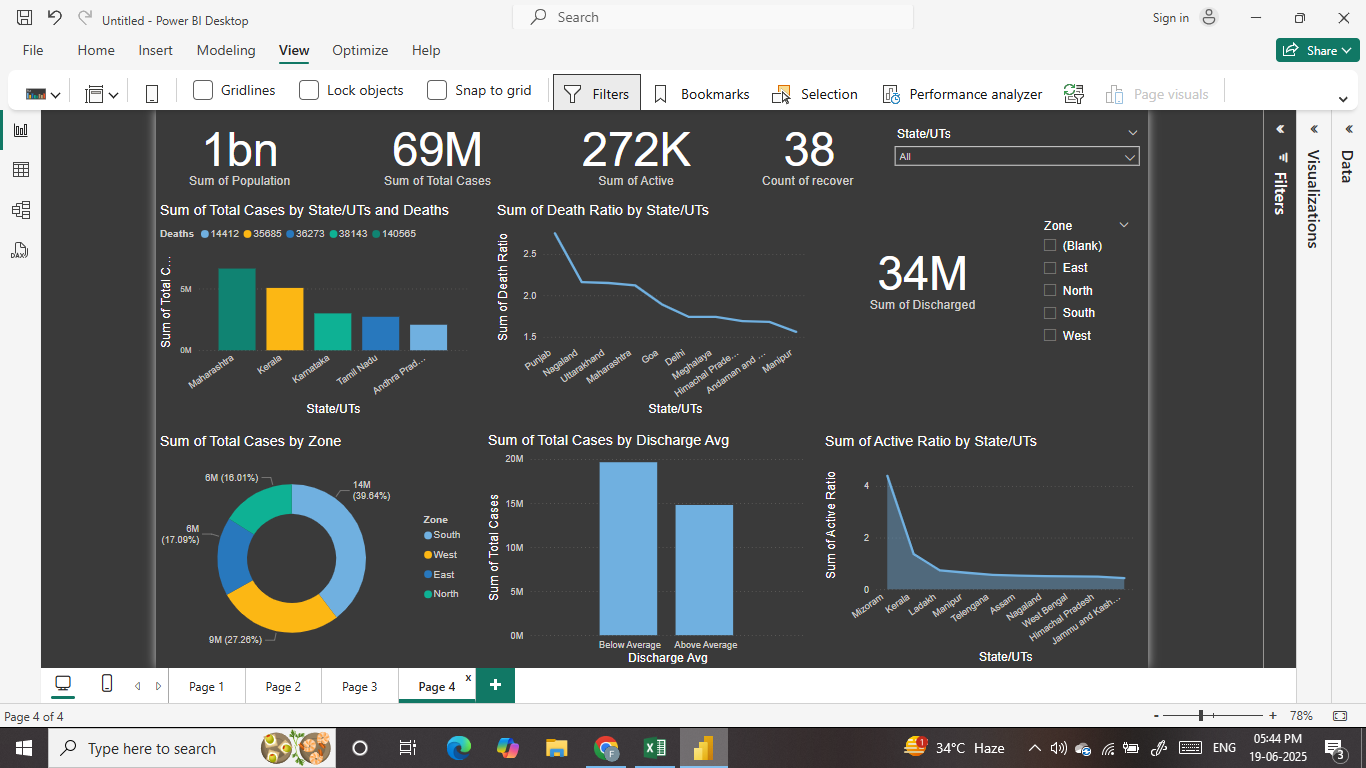

What the dashboard file says about the page in this screenshot:
{"tool":"powerbi","page":{"name":"Dashboard","canvas":[1280,720],"ordinal":3},"visuals":[{"type":"columnChart","fields":{"Category":["Data.State/UTs"],"Series":["Active And Deaths.Deaths"],"Y":["Sum(Data.Total Cases)"]},"box":[0,119,407,280.7],"z":0},{"type":"lineChart","fields":{"Y":["Sum(Data.Death Ratio)"],"Category":["Data.State/UTs"]},"box":[434.9,119,410,280.7],"z":1},{"type":"stackedAreaChart","fields":{"Category":["Data.State/UTs"],"Y":["Sum(Data.Active Ratio)"]},"box":[858.1,417.3,410,302.7],"z":2},{"type":"donutChart","fields":{"Category":["Data.Zone"],"Y":["Sum(Data.Total Cases)"]},"box":[0,417.3,407,302.7],"z":3},{"type":"columnChart","fields":{"Category":["Data.Discharge Avg"],"Y":["Sum(Data.Total Cases)"]},"box":[423.2,415.8,418.8,304.2],"z":4},{"type":"slicer","fields":{"Values":["Data.State/UTs"]},"box":[943.3,16.2,336.5,76.4],"z":5},{"type":"slicer","fields":{"Values":["Data.Zone"]},"box":[1132.9,135.2,135.2,235.1],"z":6},{"type":"card","fields":{"Values":["Sum(Data.Population)"]},"box":[0,0,216,108.7],"z":7},{"type":"card","fields":{"Values":["Sum(Cases and Recovered.Total Cases)"]},"box":[241,0,243.9,108.7],"z":8},{"type":"card","fields":{"Values":["Sum(Active And Deaths.Active)"]},"box":[506.9,0,224.8,108.7],"z":9},{"type":"card","fields":{"Values":["Count(Recovered Index.recover )"]},"box":[743.1,0,199.5,108.4],"z":10},{"type":"card","fields":{"Values":["Sum(Data.Discharged)"]},"box":[924.9,134.9,187.2,118.4],"z":11},{"type":"card","fields":{"Values":["Sum(Data.Death Ratio)"]},"box":[924.9,253.2,200.9,125.2],"z":12}]}

Visuals, with their boxes on the page's 1280x720 design canvas (x1, y1, x2, y2). These are canvas units, not pixel positions in the 1366x768 screenshot, which may show the page scaled, cropped or inside an application window:
columnChart - Data.State/UTs x Active And Deaths.Deaths: 0 119 407 400
lineChart - Sum(Data.Death Ratio) x Data.State/UTs: 435 119 845 400
stackedAreaChart - Data.State/UTs x Sum(Data.Active Ratio): 858 417 1268 720
donutChart - Data.Zone x Sum(Data.Total Cases): 0 417 407 720
columnChart - Data.Discharge Avg x Sum(Data.Total Cases): 423 416 842 720
slicer - Data.State/UTs: 943 16 1280 93
slicer - Data.Zone: 1133 135 1268 370
card - Sum(Data.Population): 0 0 216 109
card - Sum(Cases and Recovered.Total Cases): 241 0 485 109
card - Sum(Active And Deaths.Active): 507 0 732 109
card - Count(Recovered Index.recover ): 743 0 943 108
card - Sum(Data.Discharged): 925 135 1112 253
card - Sum(Data.Death Ratio): 925 253 1126 378
